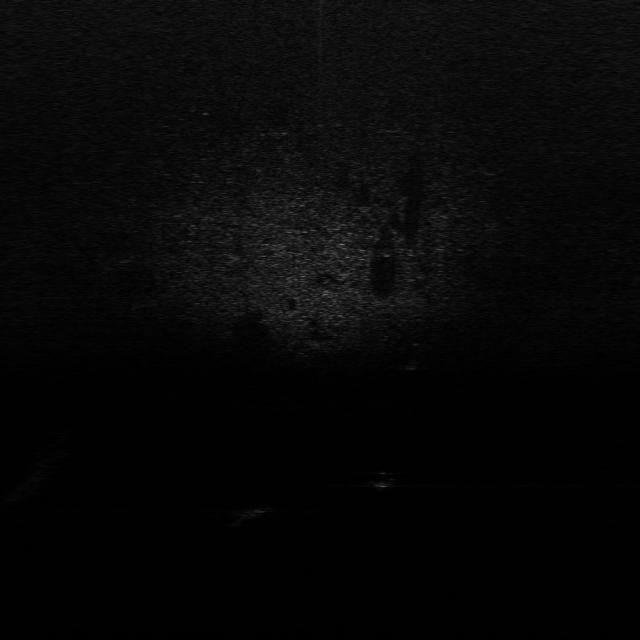ball: (368, 470, 399, 490)
square cage: (232, 501, 272, 522)
tyre: (404, 339, 432, 372)
